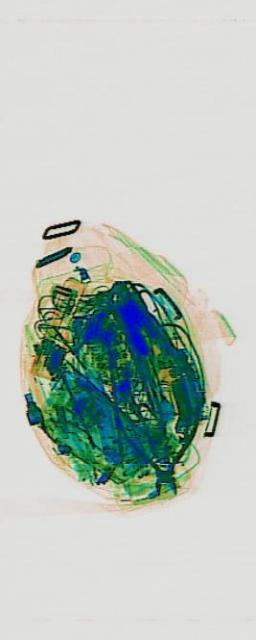Pliers: (99, 248, 187, 434)
